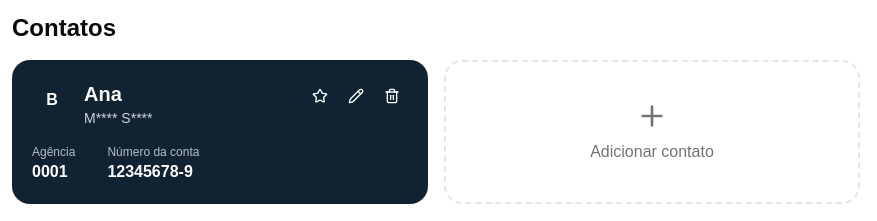
Scenario: lista de contatos › favoritar REFAZ a lista
Expected: the text "Ana" is shown, [84,83,122,105]
Step 1. Click the button named "Favoritar" → coordinates (320, 96), box [304,80,336,112]
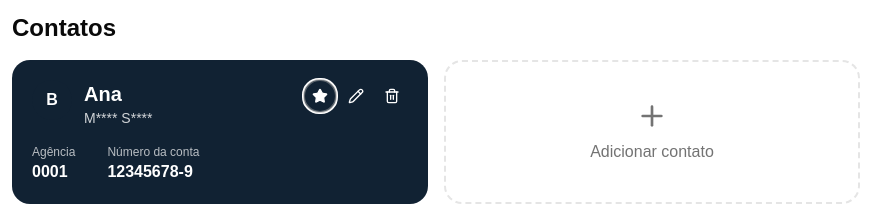
Result: the button named "Desfavoritar" is shown at [304,80,336,112]
